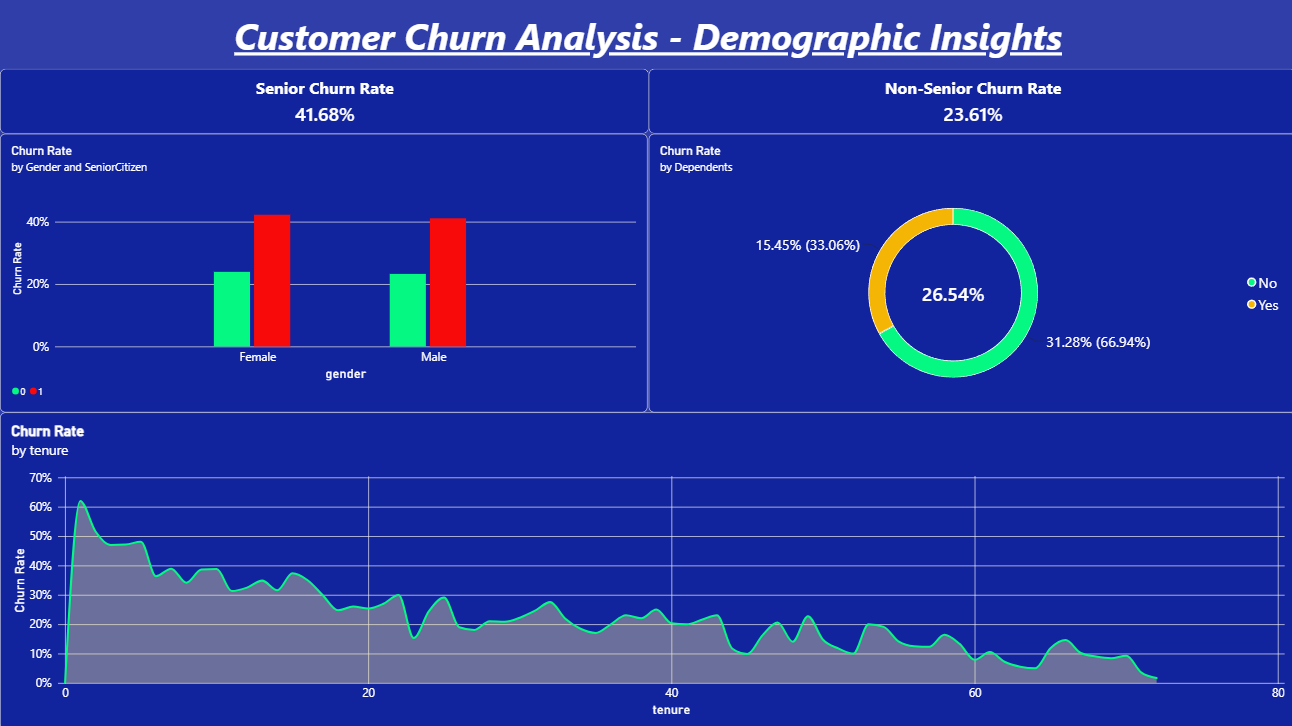

This screenshot's page, from the dashboard's own definition file:
{"tool":"powerbi","page":{"name":"Demographics & Profile","canvas":[1920,1080],"ordinal":1},"visuals":[{"type":"textbox","box":[0,16.7,1920.4,101.9],"z":0},{"type":"cardVisual","fields":{"Data":["Cleaned_telco_churn.Senior Churn Rate"]},"box":[0,101.9,961.1,96.3],"z":1},{"type":"cardVisual","fields":{"Data":["Cleaned_telco_churn.Non-Senior Churn Rate"]},"box":[961.1,101.9,959.3,96.3],"z":2},{"type":"clusteredColumnChart","title":"Churn Rate","fields":{"Category":["Cleaned_telco_churn.gender"],"Series":["Cleaned_telco_churn.SeniorCitizen"],"Y":["Cleaned_telco_churn.Churn Rate"]},"box":[0,198.1,959.3,413],"z":3},{"type":"donutChart","fields":{"Category":["Cleaned_telco_churn.Dependents"],"Y":["Cleaned_telco_churn.Churn Rate"]},"box":[961.1,198.1,959.3,413],"z":4},{"type":"stackedAreaChart","fields":{"Category":["Cleaned_telco_churn.tenure"],"Y":["Cleaned_telco_churn.Churn Rate"]},"box":[0,611.1,1920.4,468.5],"z":5}]}

Visuals, with their boxes in screenshot pixels (x1, y1, x2, y2), scaled from the page's 1920x1080 canvas onto the 1292x726 screenshot:
textbox: [left=0, top=11, right=1291, bottom=80]
cardVisual - Cleaned_telco_churn.Senior Churn Rate: [left=0, top=68, right=647, bottom=133]
cardVisual - Cleaned_telco_churn.Non-Senior Churn Rate: [left=647, top=68, right=1291, bottom=133]
"Churn Rate" clusteredColumnChart: [left=0, top=133, right=646, bottom=411]
donutChart - Cleaned_telco_churn.Dependents x Cleaned_telco_churn.Churn Rate: [left=647, top=133, right=1291, bottom=411]
stackedAreaChart - Cleaned_telco_churn.tenure x Cleaned_telco_churn.Churn Rate: [left=0, top=411, right=1291, bottom=725]
